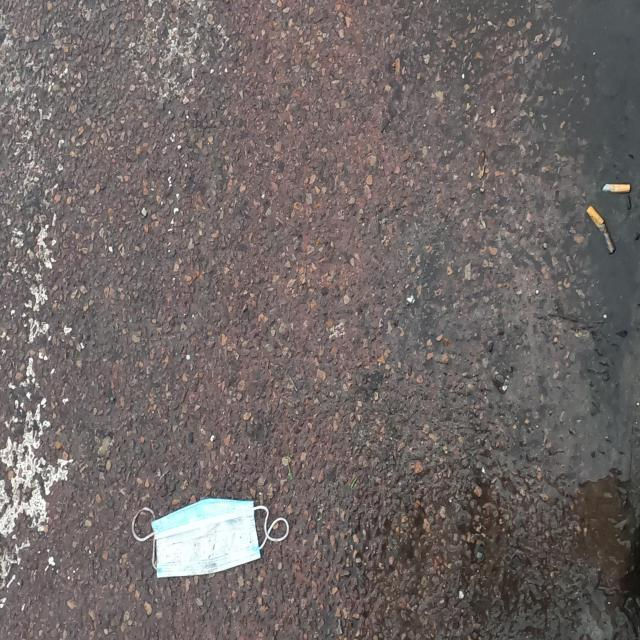Mask: (130, 496, 291, 580)
